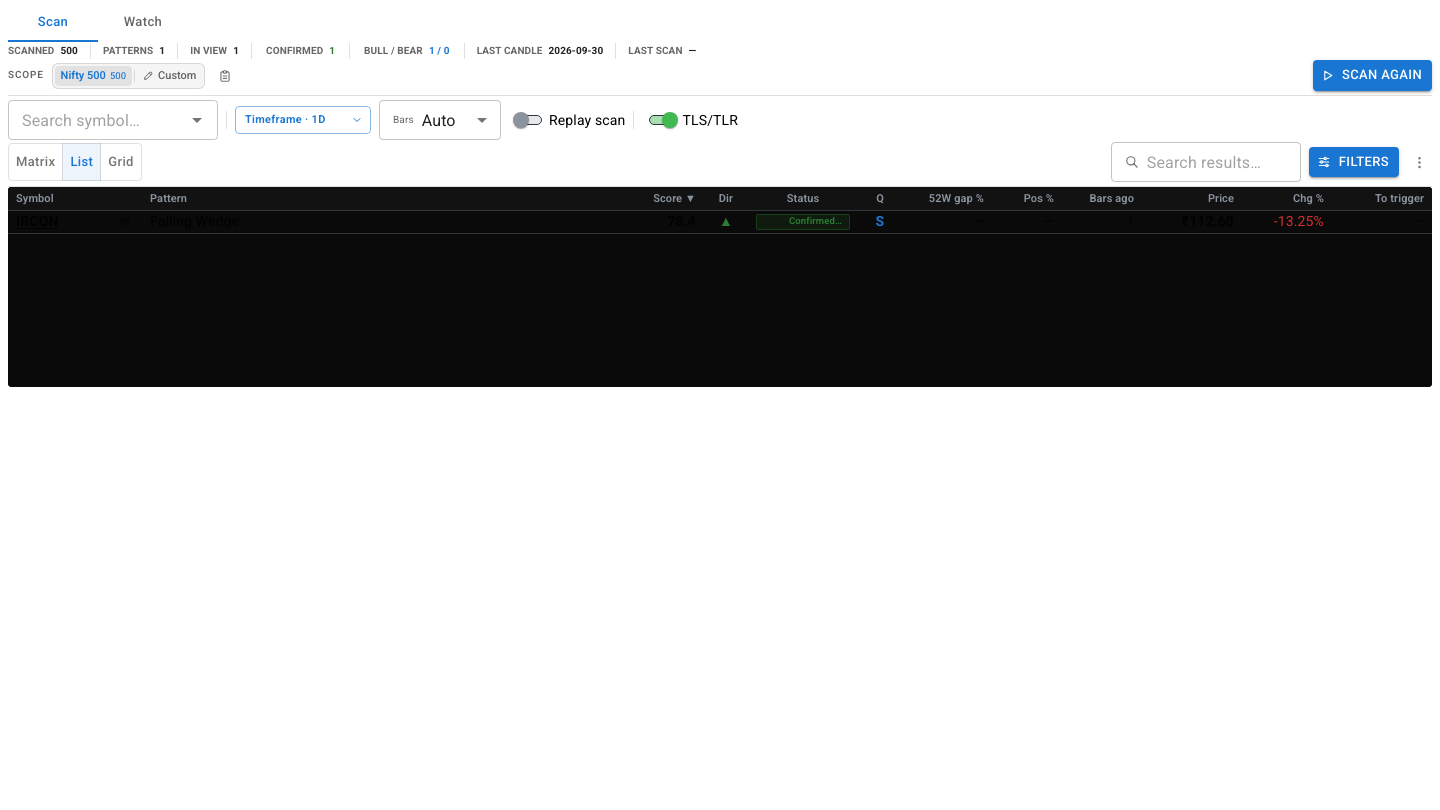
PatternsPage › Filters button opens the modal with the full rail
This screenshot has width=1440, height=810.
Click the button with test id "patterns-open-filters" at (1354, 162), box [1309, 147, 1399, 177]
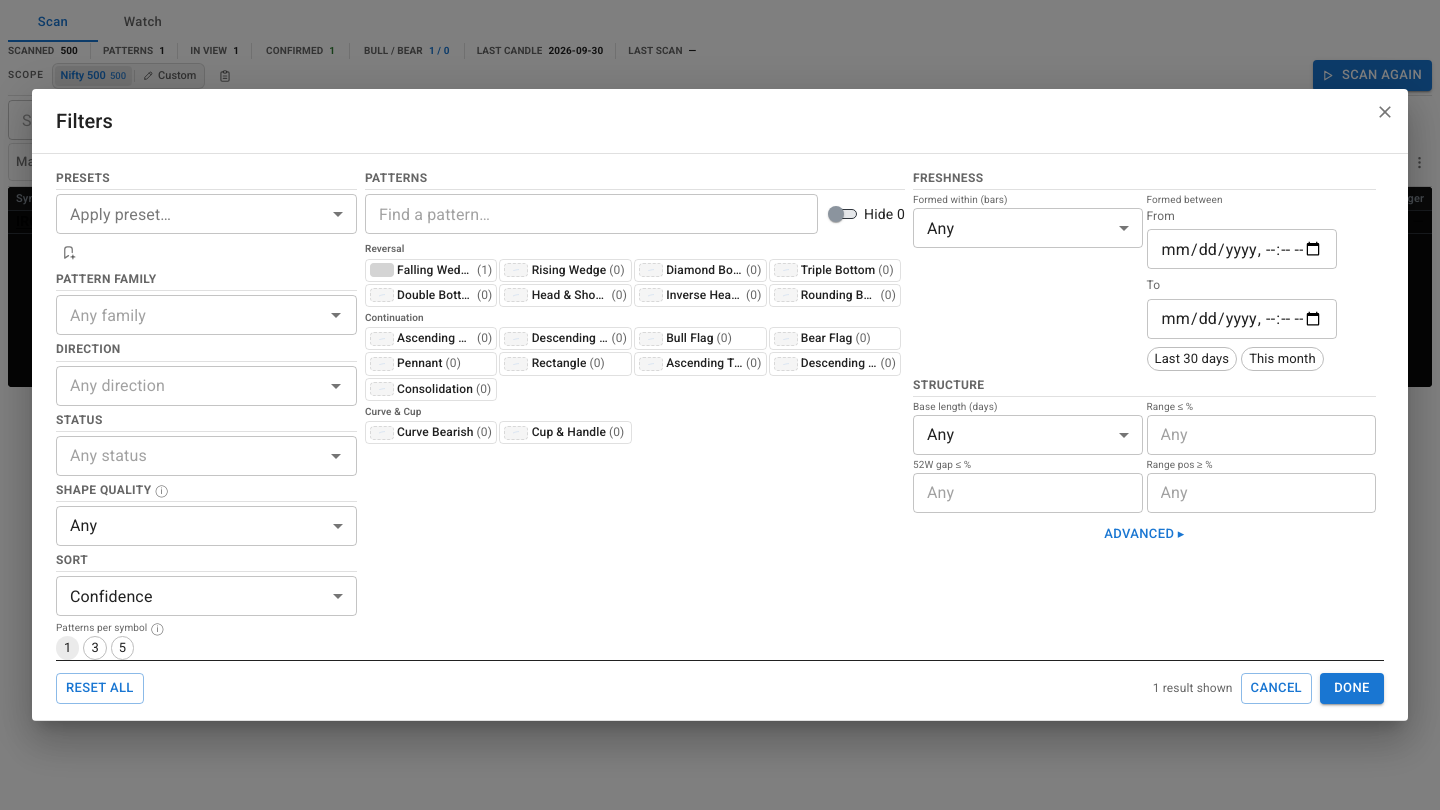
Now the element with test id "patterns-filter-rail" is shown, box [56, 170, 1376, 660]
Now the button with test id "patterns-filter-pattern-falling_wedge" shows "Falling Wedge", box [365, 259, 497, 282]
Click the button with test id "patterns-filters-done" at (1352, 688), box [1320, 673, 1384, 704]
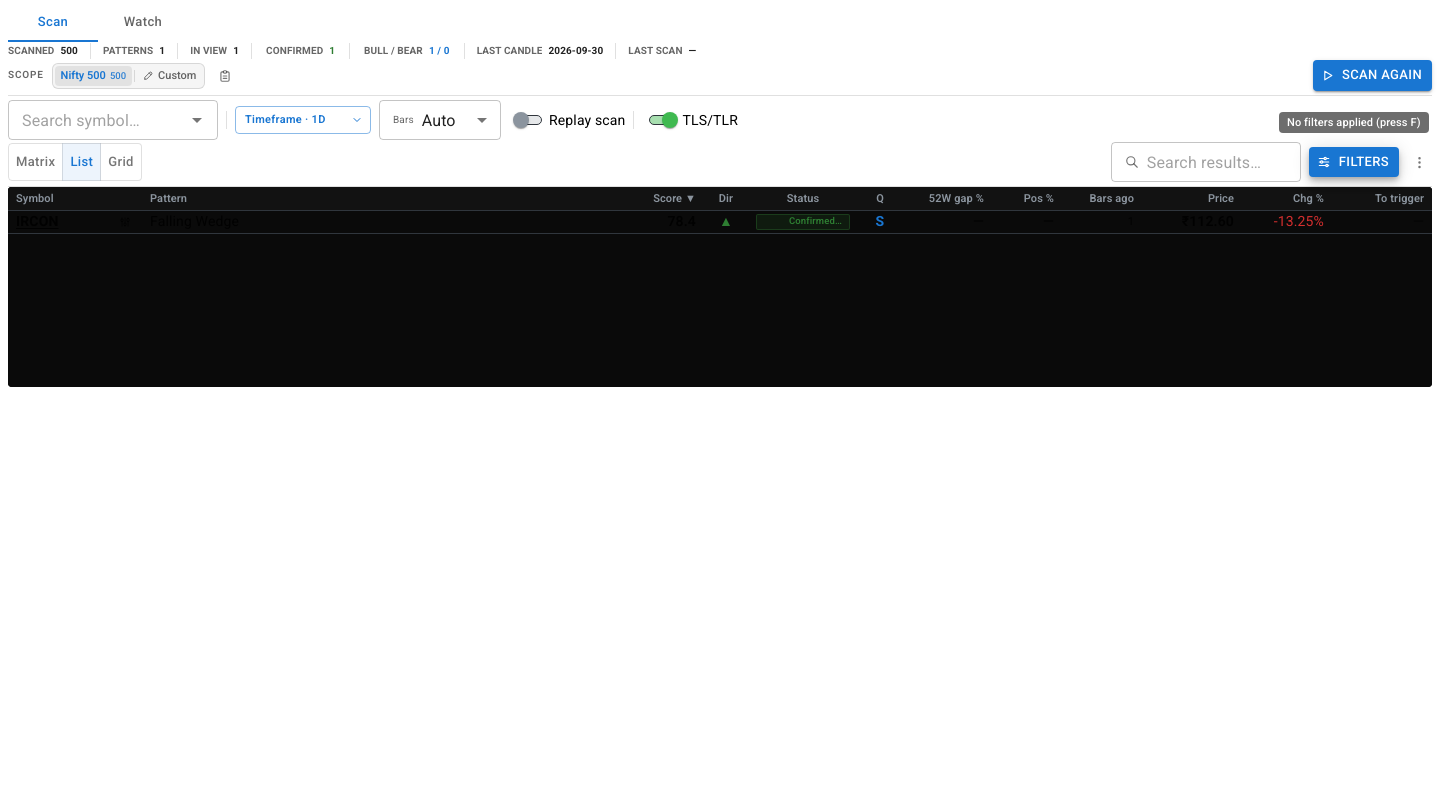
Now the element with test id "patterns-filter-rail" is gone
